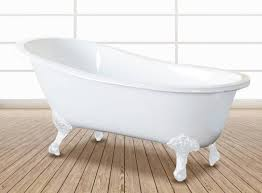bathub: (14, 28, 252, 181)
